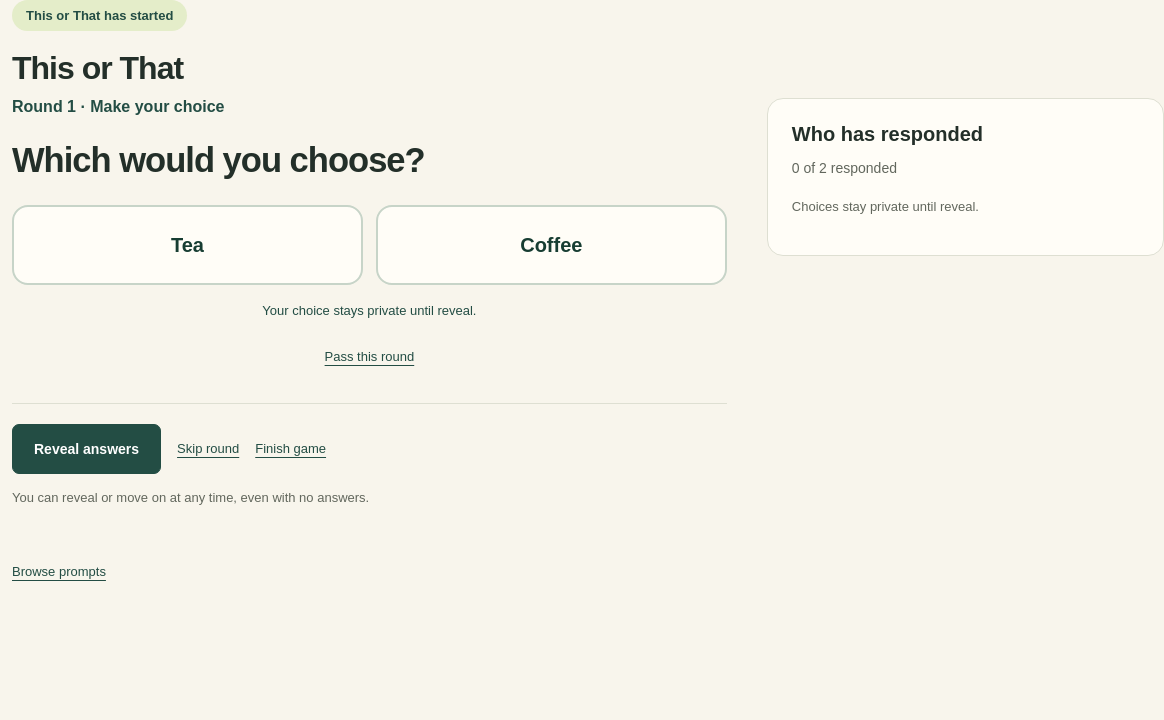
Test: game controls › reports a stale answer and refreshes without silently resubmitting
Click the button "Tea" at (188, 245), box 12,205 -> 363,285
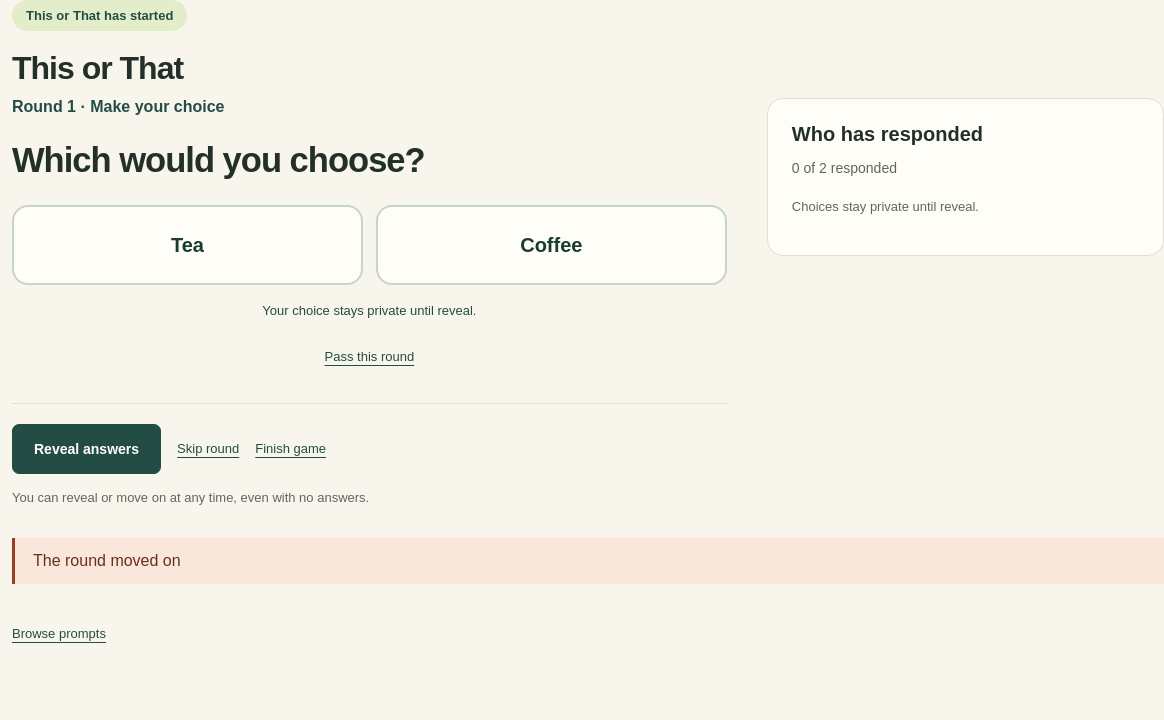
Now the message "The round moved on" is shown, box 12,538 -> 1163,584
